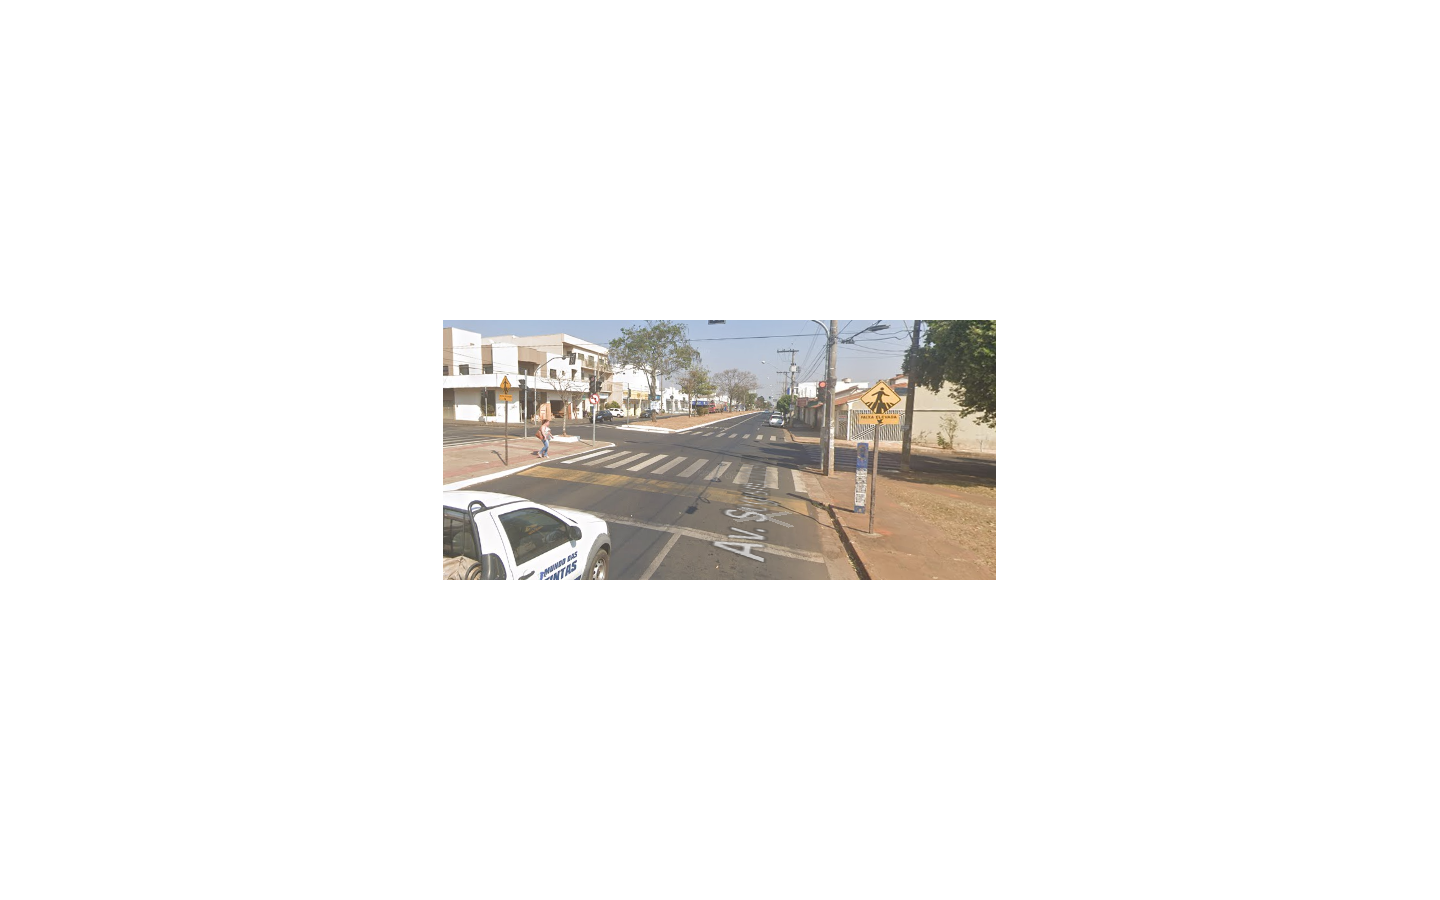telev: (858, 379, 901, 425), (499, 376, 511, 401)
